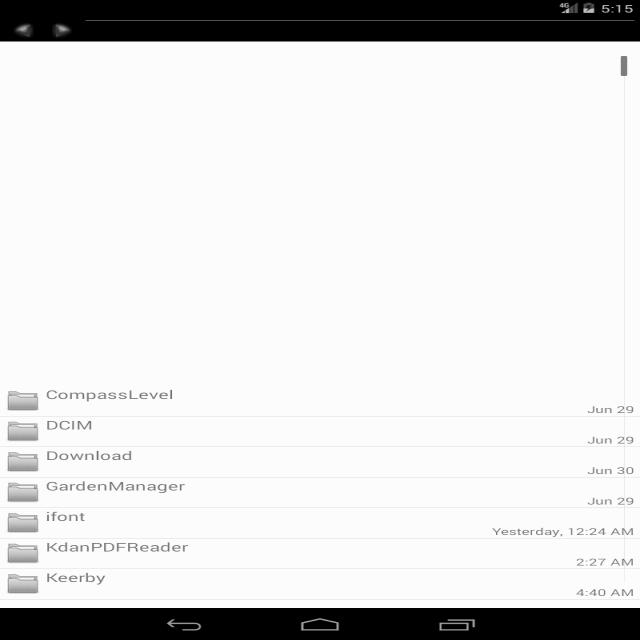ImageView: (3, 389, 39, 411), (3, 420, 39, 442), (6, 572, 39, 596), (5, 482, 40, 504)
TextView: (483, 520, 638, 542), (40, 538, 191, 554), (42, 444, 139, 466), (51, 386, 176, 402), (43, 568, 118, 586), (40, 508, 89, 525)
